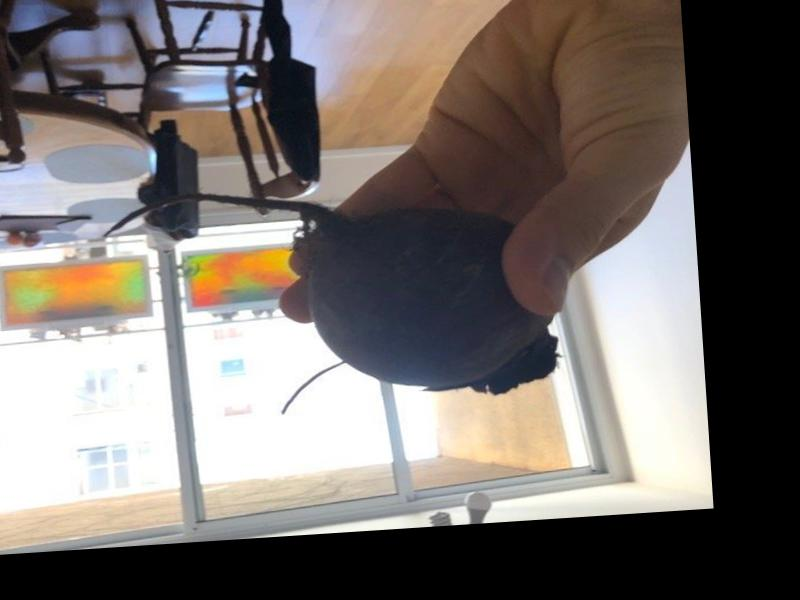Beet: (100, 172, 560, 421)
